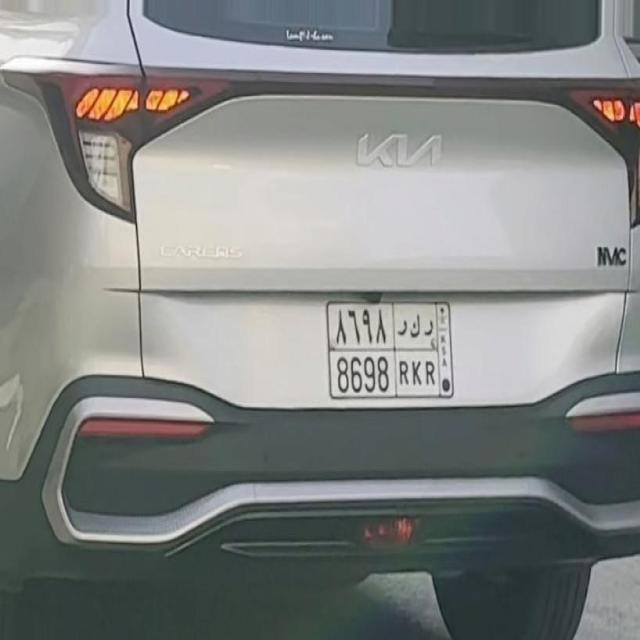Car-plate: (317, 291, 469, 412)
